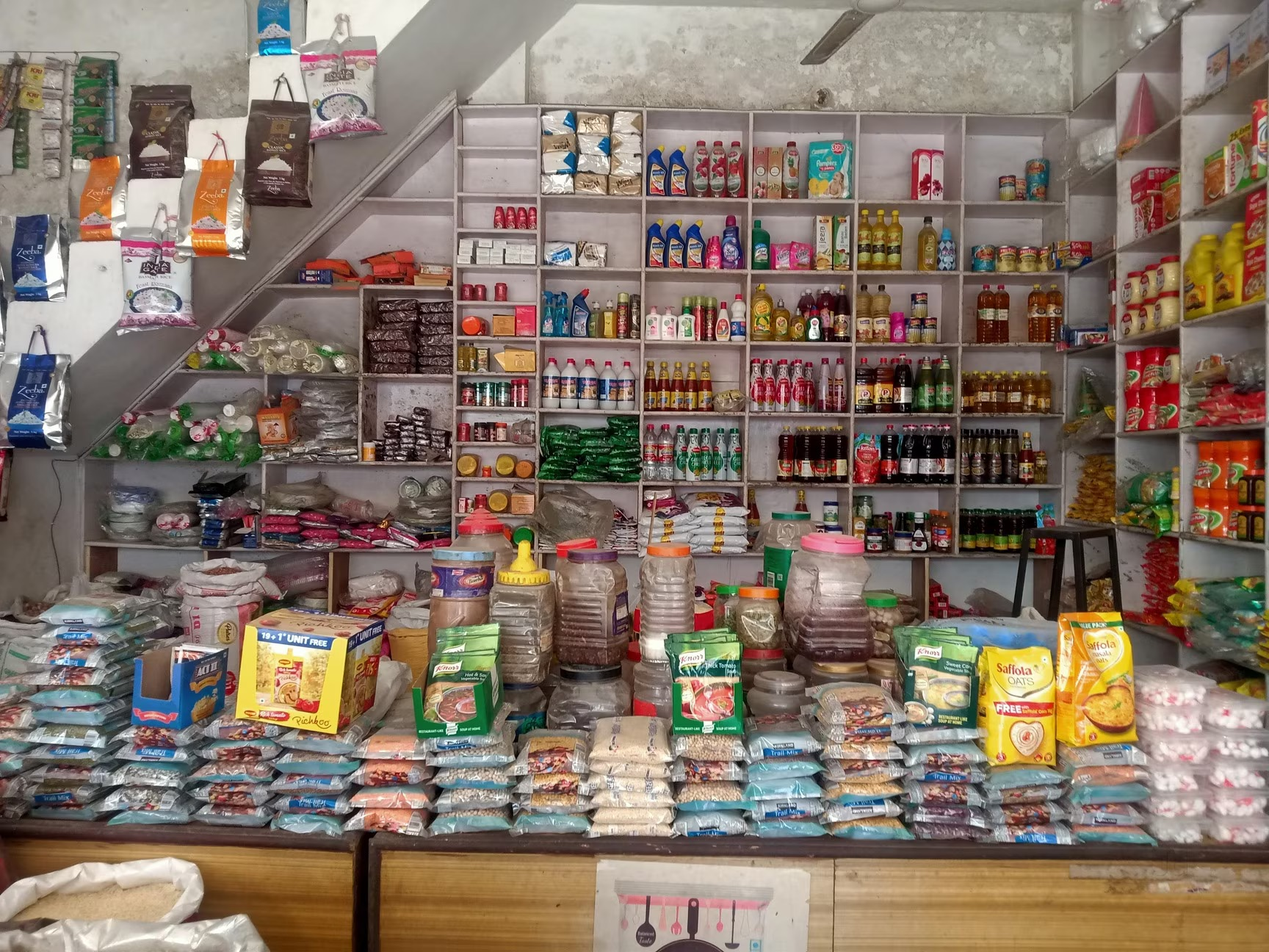saffola: (955, 599, 1156, 782)
